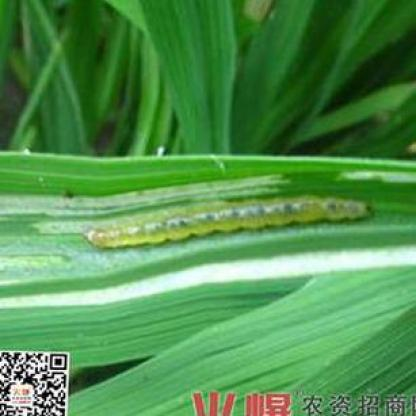leaf-folder: (79, 195, 372, 262)
